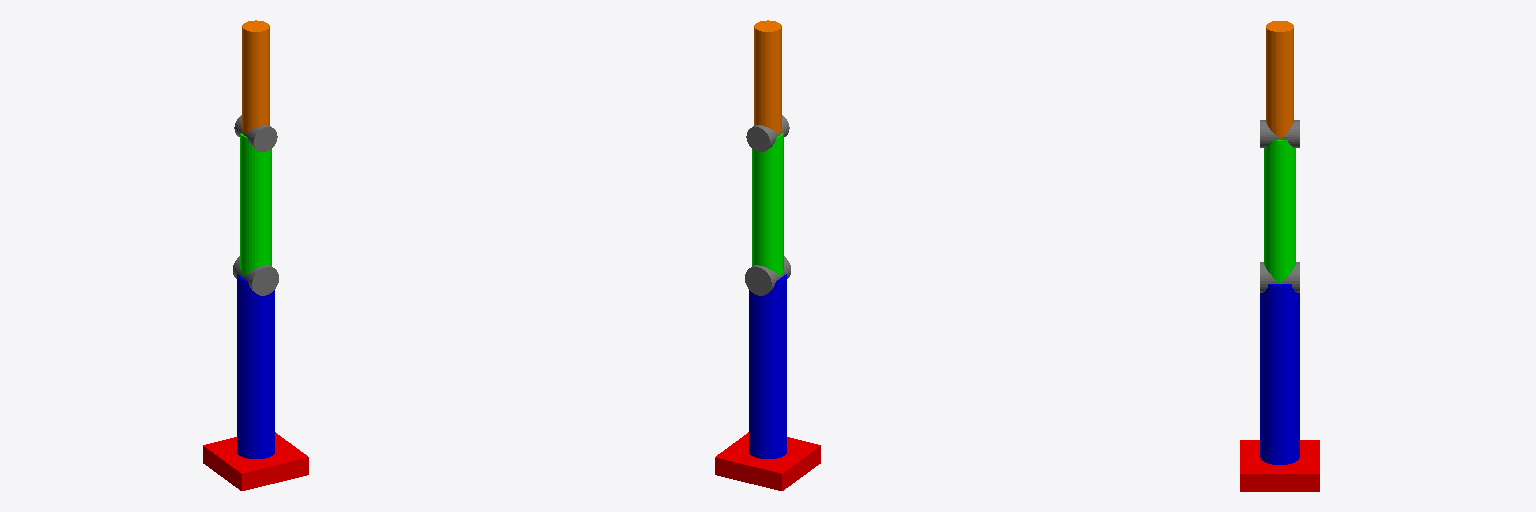
URDF robot description (BetterCylinderBot):
<?xml version="1.0"?>
<robot name="BetterCylinderBot">

  <link name="base_link">
    <!-- Thin red base plate -->
    <visual>
      <origin xyz="0 0 0.025" rpy="0 0 0"/> <!-- 0.05 tall base -->
      <geometry>
        <box size="0.2 0.2 0.05"/>
      </geometry>
      <material name="red">
        <color rgba="1 0 0 1"/>
      </material>
    </visual>
  </link>

  <link name="link1">
    <!-- Main vertical body -->
    <visual>
      <origin xyz="0 0 0.25" rpy="0 0 0"/>
      <geometry>
        <cylinder radius="0.05" length="0.5"/>
      </geometry>
      <material name="green">
        <color rgba="0 0 1 1"/>
      </material>
    </visual>

    <!-- Joint barrel -->
    <visual>
      <origin xyz="0 0 0" rpy="0 0 0"/>
      <geometry>
        <cylinder radius="0.04" length="0.1"/>
      </geometry>
      <material name="gray">
        <color rgba="0.5 0.5 0.5 1"/>
      </material>
    </visual>
  </link>

  <link name="link2">
    <!-- Main vertical body -->
    <visual>
      <origin xyz="0 0 0.2" rpy="0 0 0"/>
      <geometry>
        <cylinder radius="0.04" length="0.4"/>
      </geometry>
      <material name="blue">
        <color rgba="0 1 0 1"/>
      </material>
    </visual>

    <!-- Joint barrel -->
    <visual>
      <origin xyz="0 0 0" rpy="1.5708 0 0"/>
      <geometry>
        <cylinder radius="0.04" length="0.1"/>
      </geometry>
      <material name="gray">
        <color rgba="0.5 0.5 0.5 1"/>
      </material>
    </visual>
  </link>

  <link name="link3">
    <!-- Main vertical body -->
    <visual>
      <origin xyz="0 0 0.15" rpy="0 0 0"/>
      <geometry>
        <cylinder radius="0.035" length="0.3"/>
      </geometry>
      <material name="orange">
        <color rgba="1 0.5 0 1"/>
      </material>
    </visual>

    <!-- Joint barrel -->
    <visual>
      <origin xyz="0 0 0" rpy="1.5708 0 0"/>
      <geometry>
        <cylinder radius="0.035" length="0.1"/>
      </geometry>
      <material name="gray">
        <color rgba="0.5 0.5 0.5 1"/>
      </material>
    </visual>
  </link>

  <!-- Joints -->
  <joint name="joint1" type="revolute">
    <parent link="base_link"/>
    <child link="link1"/>
    <origin xyz="0 0 0.05" rpy="0 0 0"/>
    <axis xyz="0 0 1"/>
    <limit lower="-3.14" upper="3.14" effort="10" velocity="1"/>
  </joint>

  <joint name="joint2" type="revolute">
    <parent link="link1"/>
    <child link="link2"/>
    <origin xyz="0 0 0.5" rpy="0 0 0"/>
    <axis xyz="0 1 0"/>
    <limit lower="-3.14" upper="3.14" effort="10" velocity="1"/>
  </joint>

  <joint name="joint3" type="revolute">
    <parent link="link2"/>
    <child link="link3"/>
    <origin xyz="0 0 0.4" rpy="0 0 0"/>
    <axis xyz="0 1 0"/>
    <limit lower="-3.14" upper="3.14" effort="10" velocity="1"/>
  </joint>

</robot>

--- Render facts (derived) ---
3 views of the same robot in one strip: view 1: azimuth 30°, elevation 25°; view 2: azimuth 150°, elevation 25°; view 3: azimuth 270°, elevation 25° (orthographic).
Robot: BetterCylinderBot — 4 links, 3 joints (3 revolute); root link base_link; default pose: all joints at 0.
Links seen in each view (by area): view 1: link1, link2, link3, base_link; view 2: link1, link2, link3, base_link; view 3: link1, link2, link3, base_link.
Link boxes in pixels (x1,y1,x2,y2): link1: (237,274,274,458); link2: (233,133,278,295); link3: (234,20,277,151); base_link: (203,432,308,490); link1: (749,274,786,458); link2: (745,133,790,295); link3: (746,20,789,151); base_link: (715,432,820,490); link1: (1260,284,1299,464); link2: (1260,140,1299,292); link3: (1260,21,1299,147); base_link: (1240,440,1319,491).
Bounding box of the posed robot: 0.2 × 0.2 × 1.25 m (x, y, z).
Geometry: primitives only (box / cylinder / sphere), no mesh files.